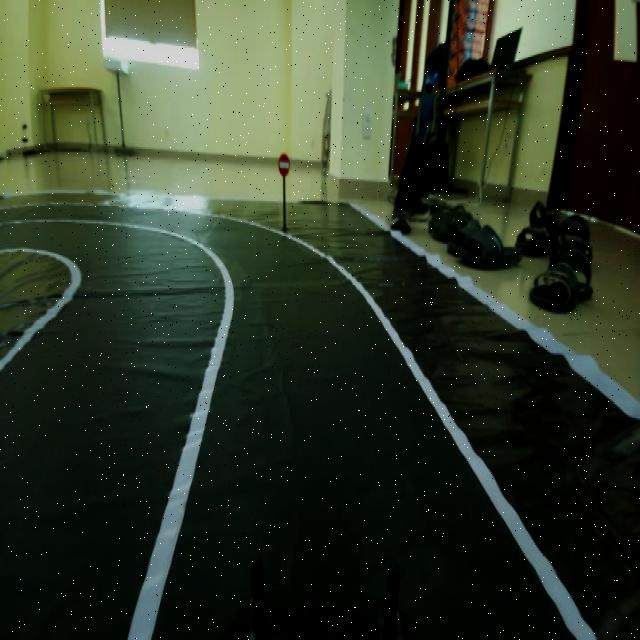no_entry: (273, 149, 294, 181)
